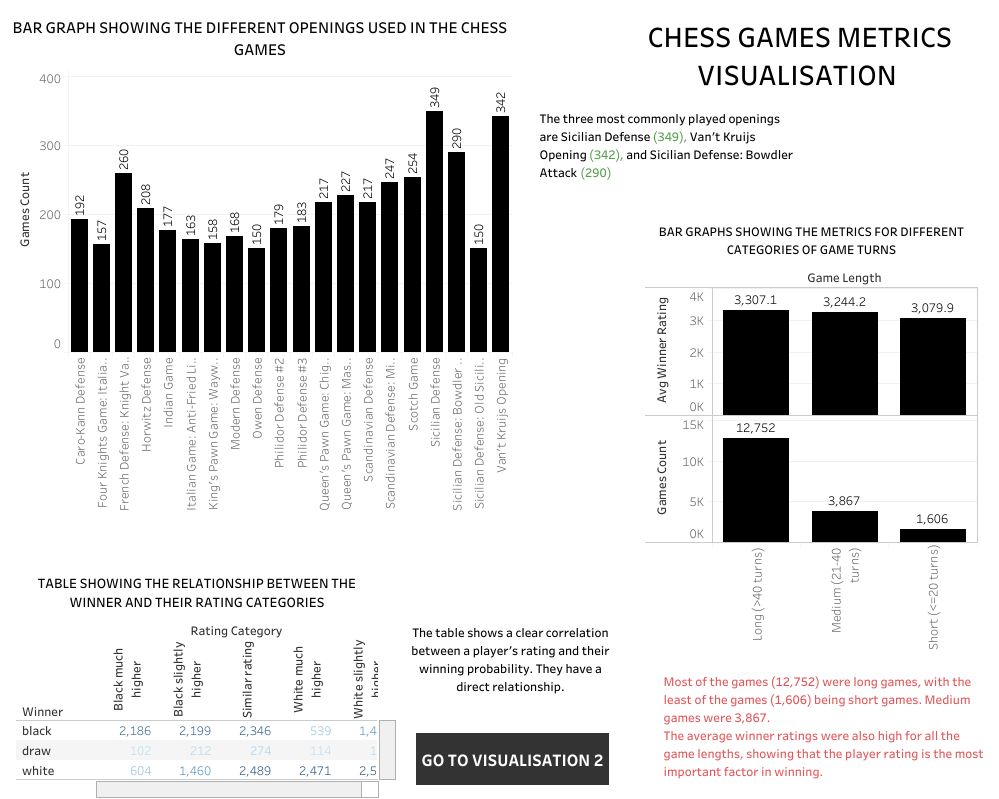

This screenshot's page, from the dashboard's own definition file:
{"tool":"tableau","page":{"name":"VISUALISATION 1","canvas":[1000,800],"ordinal":1},"visuals":[{"type":"worksheet","title":"Sheet 4","mark":"Automatic","rows":["games_count"],"cols":["opening_name"],"box":[8,10,504,502]},{"type":"text","box":[603,11,388,87]},{"type":"text","box":[537,45,258,164]},{"type":"worksheet","title":"Sheet 2","mark":"Automatic","rows":["avg_winner_rating","games_count"],"cols":["game_length"],"box":[645,216,333,436]},{"type":"worksheet","title":"Sheet 6","mark":"Text","rows":["winner"],"cols":["rating_category"],"box":[16,567,380,231]},{"type":"text","box":[407,610,207,98]},{"type":"text","box":[661,658,329,135]},{"type":"dashboard-object","box":[416,733,193,52]}]}

Visuals, with their boxes in screenshot pixels (x1, y1, x2, y2), scaled from the page's 1000x800 canvas onto the 999x799 screenshot:
"Sheet 4" worksheet: 8:10:511:511
text: 602:11:990:98
text: 536:45:794:209
"Sheet 2" worksheet: 644:216:977:651
"Sheet 6" worksheet (Text marks): 16:566:396:797
text: 407:609:613:707
text: 660:657:989:792
dashboard-object: 416:732:608:784
